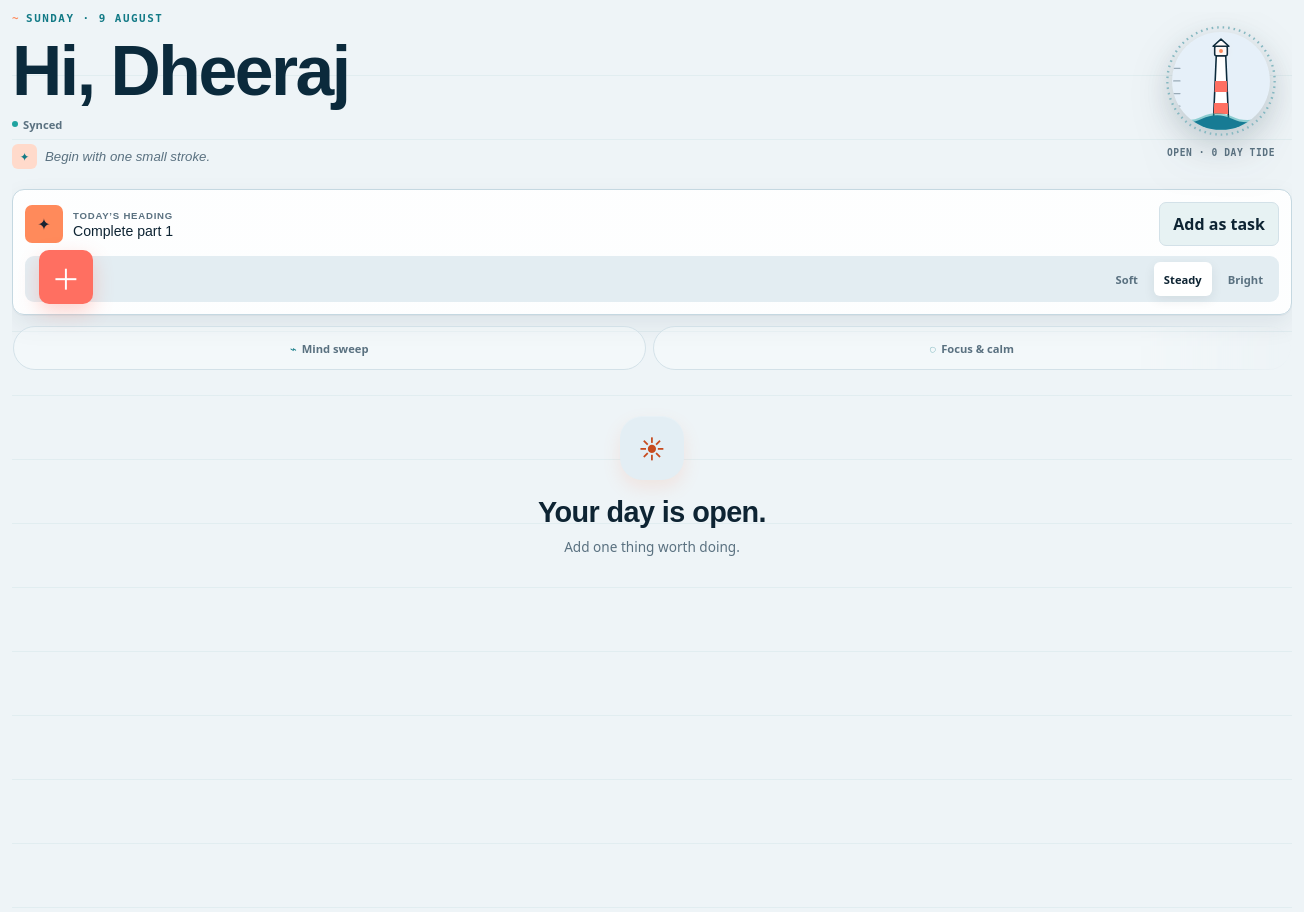
turns a saved seed into an actionable task once
Click the button "Add as task": (1219, 224) 1159,202 -> 1279,246
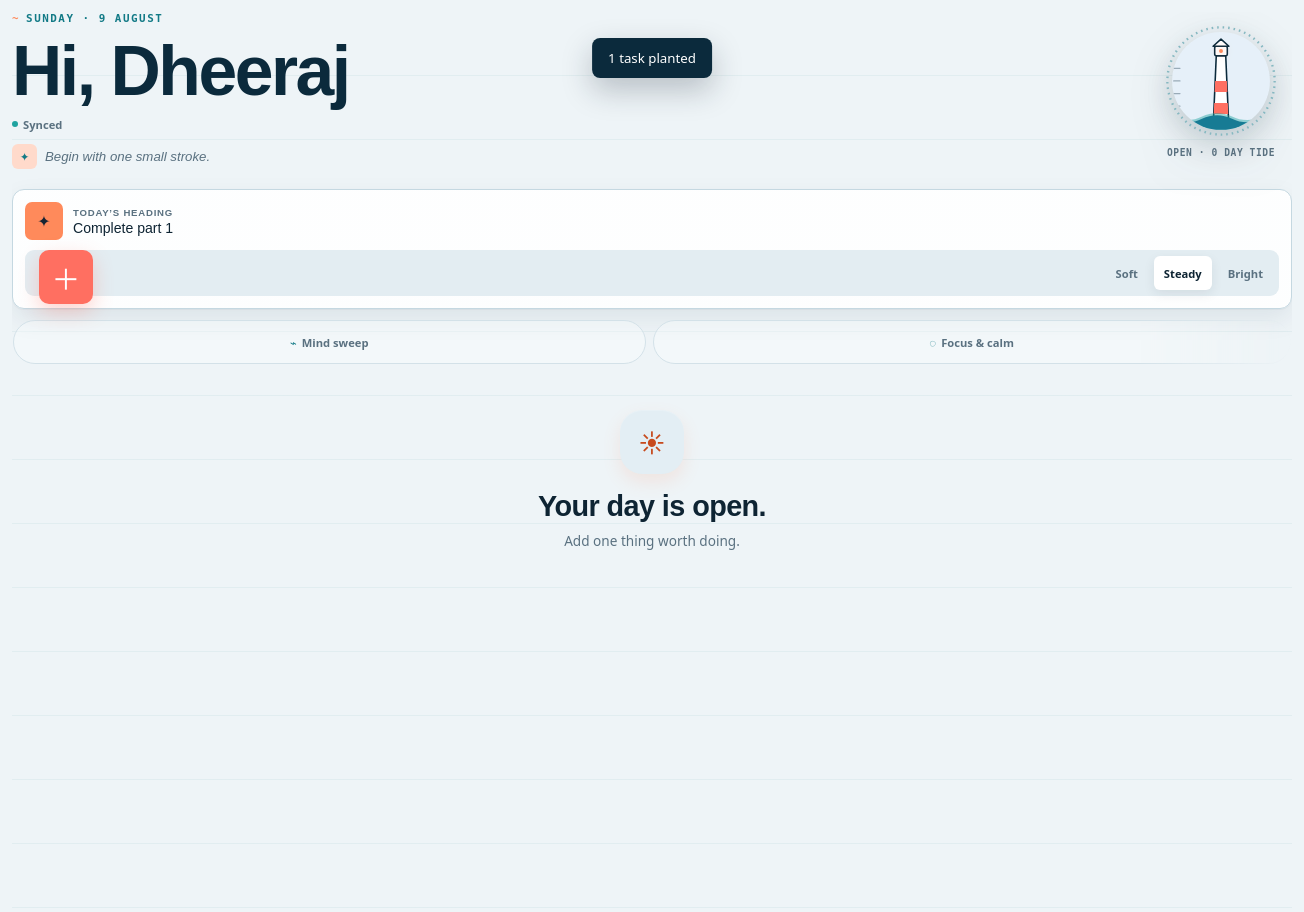
expect the button "Add as task" is gone: met
